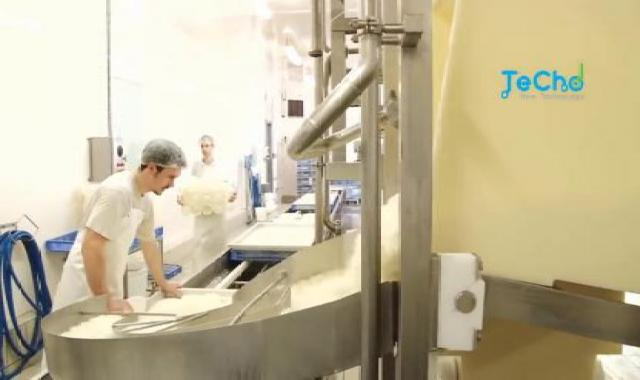hairnet: (130, 138, 185, 174), (194, 128, 224, 152)
